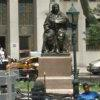Statue: (32, 0, 81, 57)
